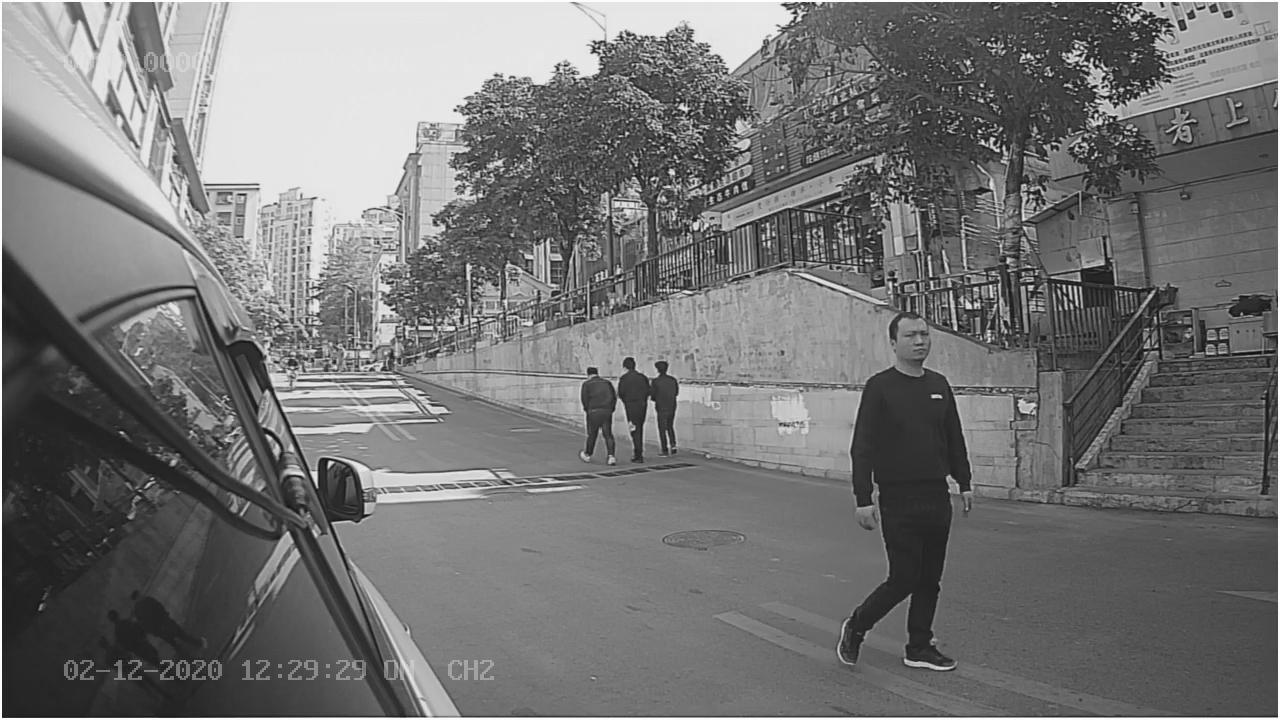person: (833, 304, 989, 671)
